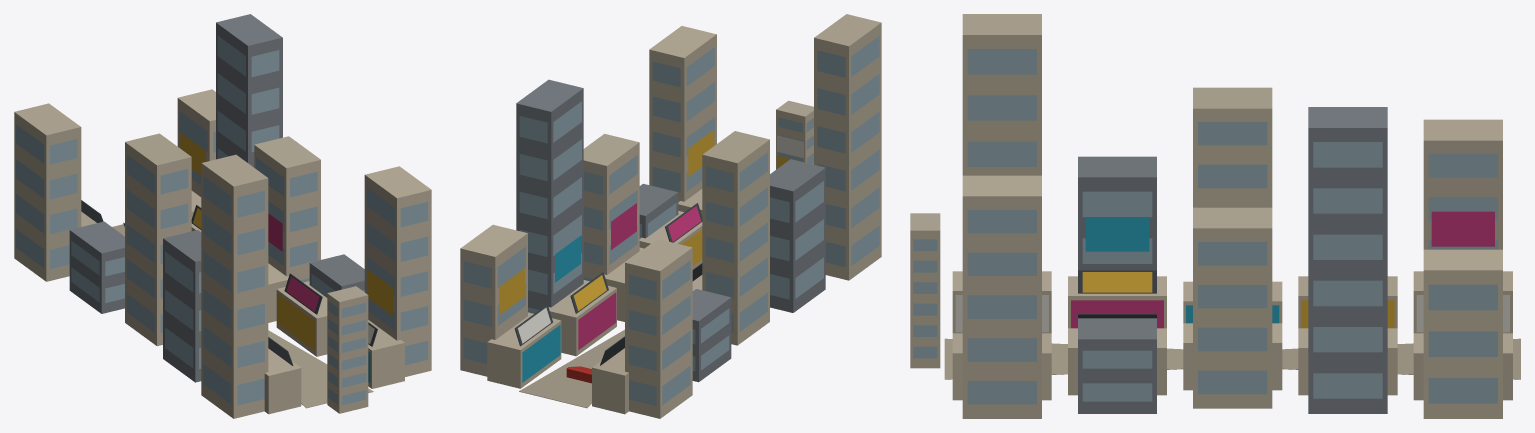
3 views of the same model, side by side, from view 1: azimuth 30°, elevation 25°; view 2: azimuth 150°, elevation 25°; view 3: azimuth 270°, elevation 25° (orthographic). The views are drawn at different scales.
Parts seen in each view (by area): view 1: times-square-lod2; view 2: times-square-lod2; view 3: times-square-lod2.
Boxes of the visible parts, x1,y1,x2,y2 form: times-square-lod2: (14, 14, 431, 418); times-square-lod2: (460, 14, 881, 418); times-square-lod2: (910, 14, 1520, 418).
Bounding box in the file's own units: 205 × 230 × 445.
